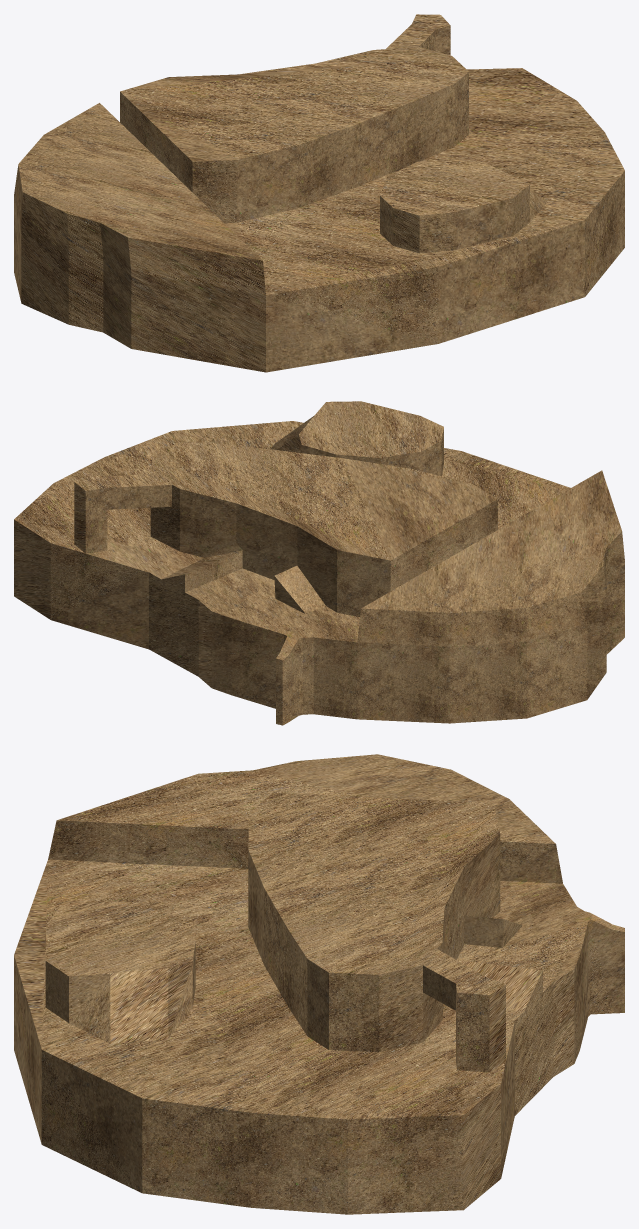
File: ruinsPuzzleMap.glb
The picture shows the model from 3 angles, top to bottom: view 1: azimuth 30°, elevation 25°; view 2: azimuth 150°, elevation 25°; view 3: azimuth 270°, elevation 25°; orthographic projection. The views are drawn at different scales.
Parts seen in each view (by area): view 1: Wall; view 2: Wall; view 3: Wall.
Part boxes in pixels (x1,y1,x2,y2): Wall: (14, 14, 624, 372); Wall: (14, 401, 624, 725); Wall: (14, 754, 624, 1214).
Size of the model in its own units: 93.22 by 22.88 by 73.4.
Materials: 1 (1 with a texture image).
